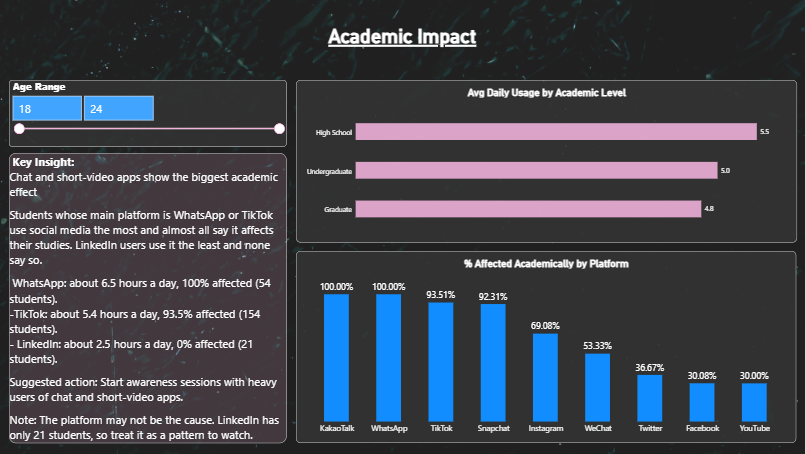

This screenshot's page, from the dashboard's own definition file:
{"tool":"powerbi","page":{"name":"Academic Impact","canvas":[1920,1080],"ordinal":2},"visuals":[{"type":"slicer","fields":{"Values":["Student_Details.Age"]},"box":[23.4,191.3,661.2,159.4],"z":0},{"type":"clusteredBarChart","title":"Avg Daily Usage by Academic Level","fields":{"Category":["Student_Details.Academic_Level"],"Y":["Platform_Details.Avg Usage Hours"]},"box":[708,191.3,1192.7,386.9],"z":1000},{"type":"clusteredColumnChart","title":"% Affected Academically by Platform","fields":{"Category":["Platform_Details.Most_Used_Platform"],"Y":["Platform_Details.% Affected Academically"]},"box":[708,597.4,1190.6,457.1],"z":2000},{"type":"textbox","title":"Academic Impact","box":[23.4,59.5,1873,70.2],"z":3000},{"type":"textbox","box":[23.4,363.5,661.2,690.9],"z":4000}]}

Visuals, with their boxes in screenshot pixels (x1, y1, x2, y2), scaled from the page's 1920x1080 canvas onto the 806x454 screenshot:
slicer - Student_Details.Age: <box>10,80,287,147</box>
"Avg Daily Usage by Academic Level" clusteredBarChart: <box>297,80,798,243</box>
"% Affected Academically by Platform" clusteredColumnChart: <box>297,251,797,443</box>
"Academic Impact" textbox: <box>10,25,796,55</box>
textbox: <box>10,153,287,443</box>
